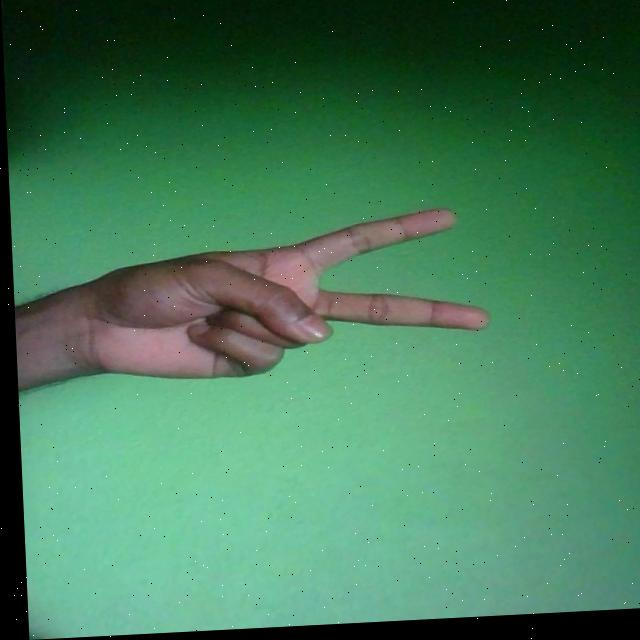Peace: (72, 211, 489, 388)
